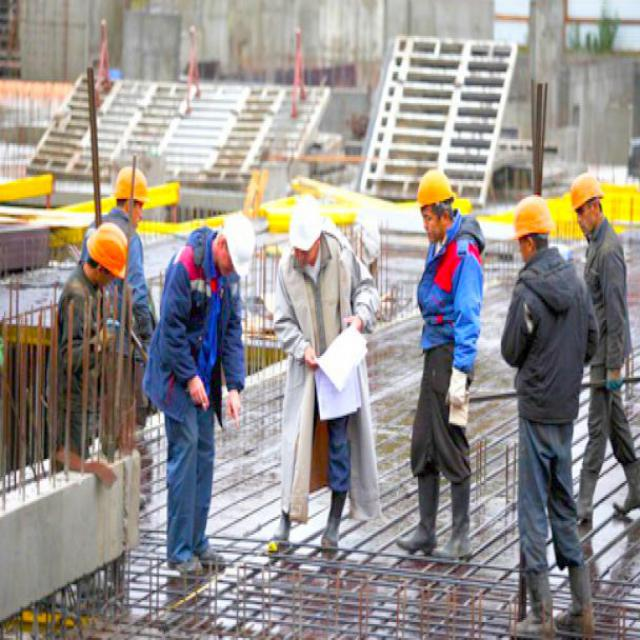helmet: (209, 202, 263, 284), (506, 191, 557, 261), (282, 188, 326, 266), (414, 167, 462, 234), (76, 227, 131, 284), (571, 167, 612, 240), (114, 155, 150, 223)
